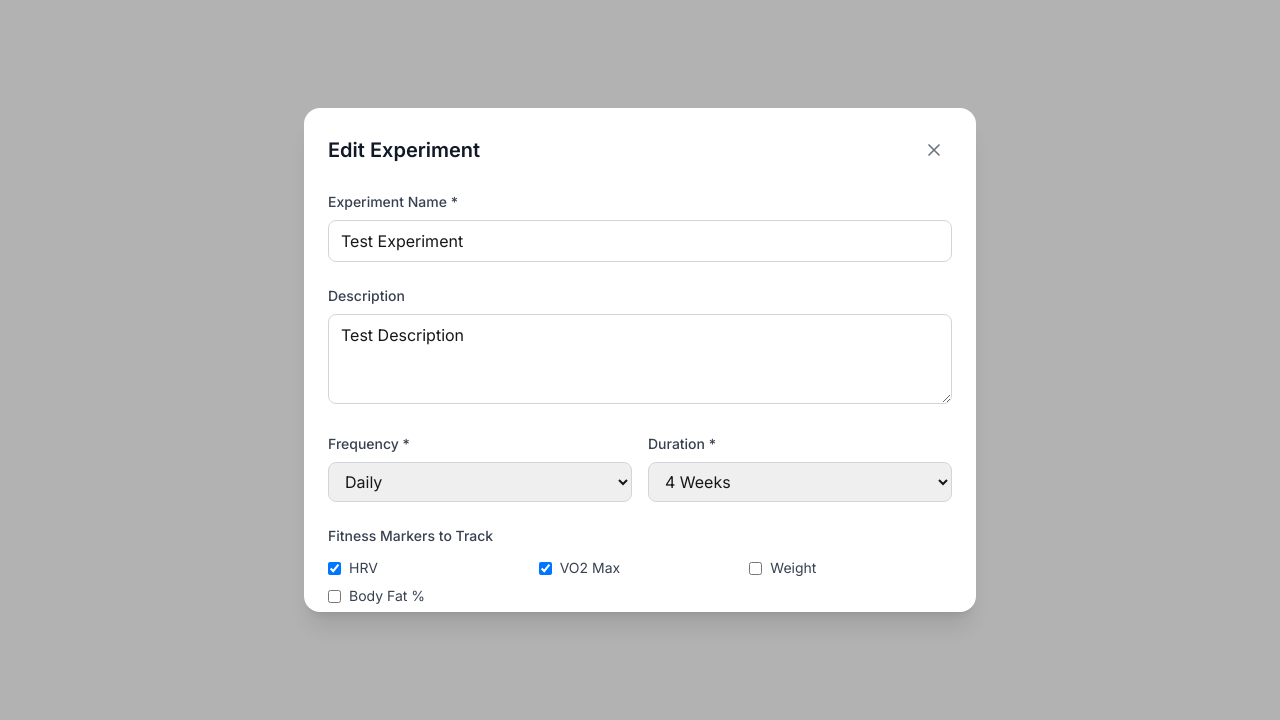
Test: EditExperimentModal › validates required fields
Note: Clear name field
Step 1. Clear the field showing "Test Experiment" → (640, 241), box [328,220,952,262]
(page scrolled)
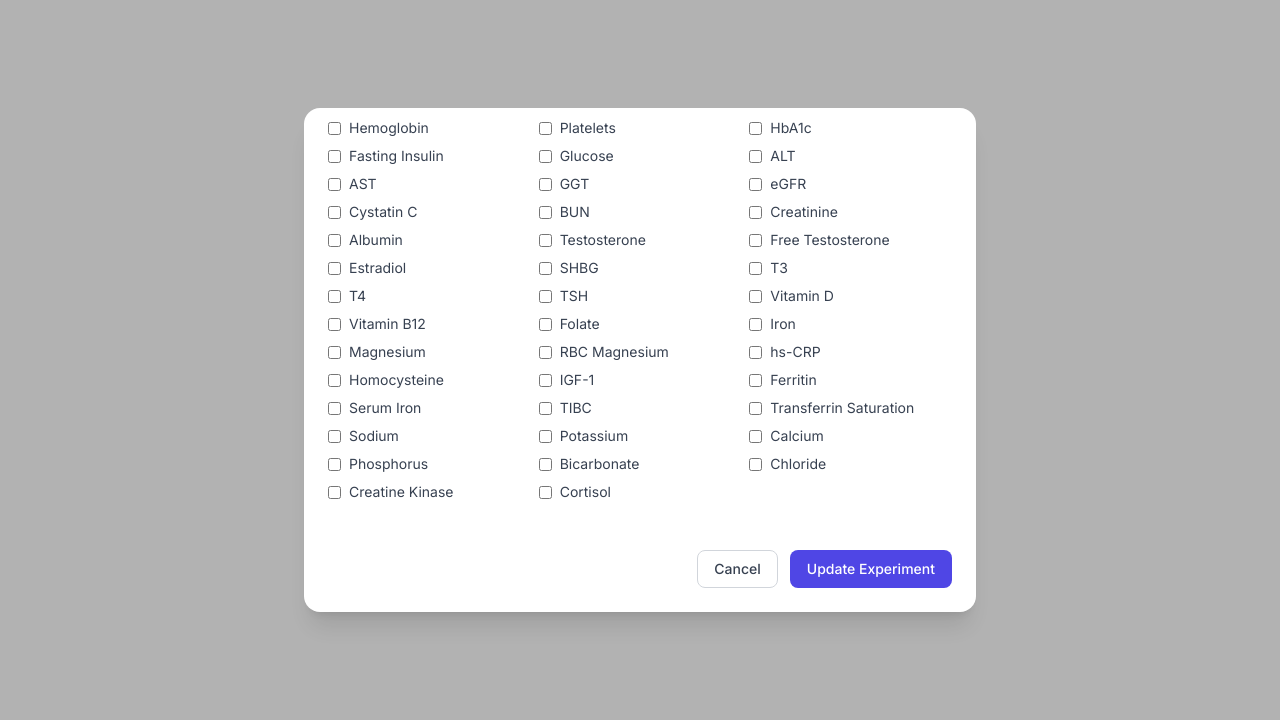
Note: Try to submit
Step 2. Click the button "Update Experiment" → click(871, 569), box [790,550,952,588]
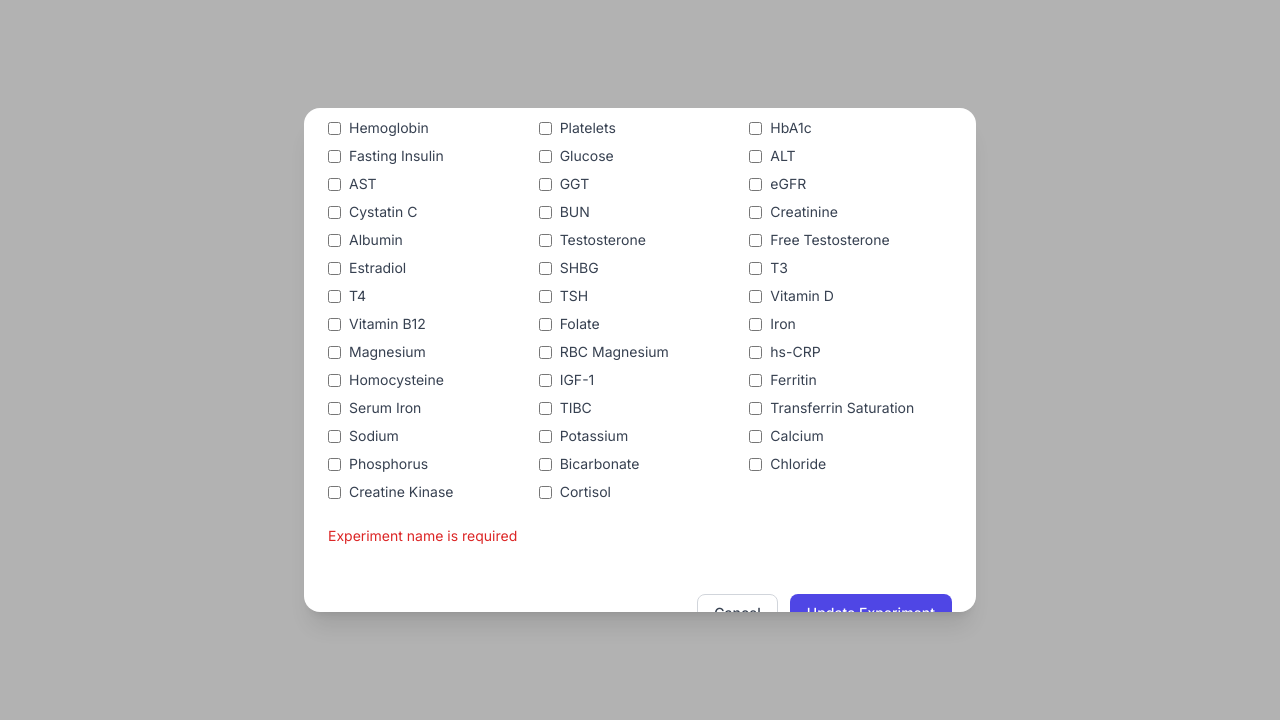
Result: the text "Experiment name is required" is shown at [328,527,517,544]
